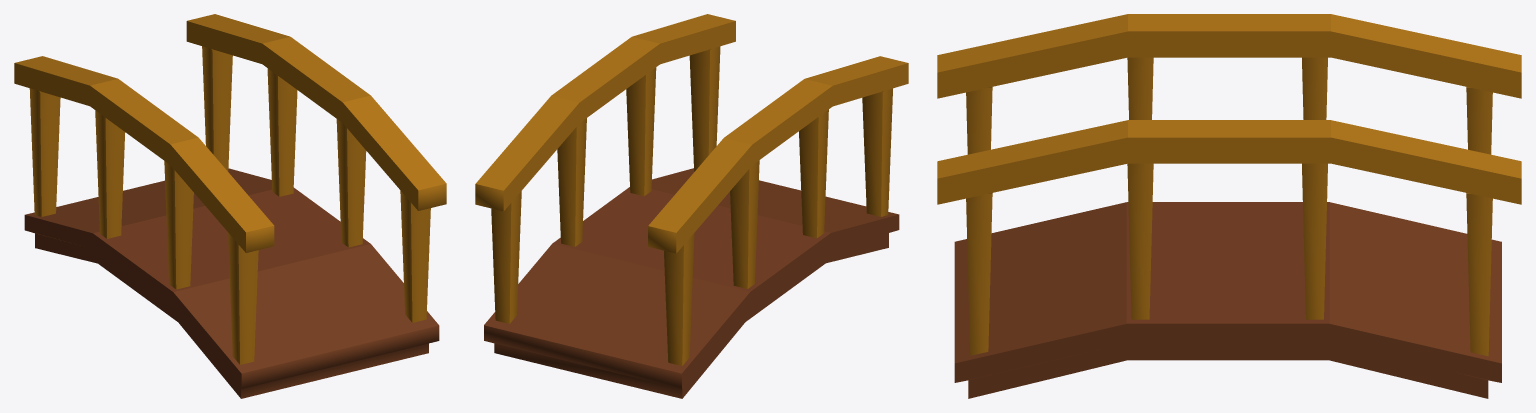
Rendered from puente marron.fbx.
3 renders of one model, left to right at view 1: azimuth 30°, elevation 25°; view 2: azimuth 150°, elevation 25°; view 3: azimuth 270°, elevation 25°, orthographic. The views are drawn at different scales.
Visible parts, largest first — view 1: Cubo; view 2: Cubo; view 3: Cubo.
Boxes of the visible parts, x1=… form: Cubo: x1=14, y1=14, x2=446, y2=398; Cubo: x1=475, y1=14, x2=908, y2=398; Cubo: x1=937, y1=14, x2=1521, y2=398.
Bounding box in the file's own units: 1.5 × 1.5 × 3.
